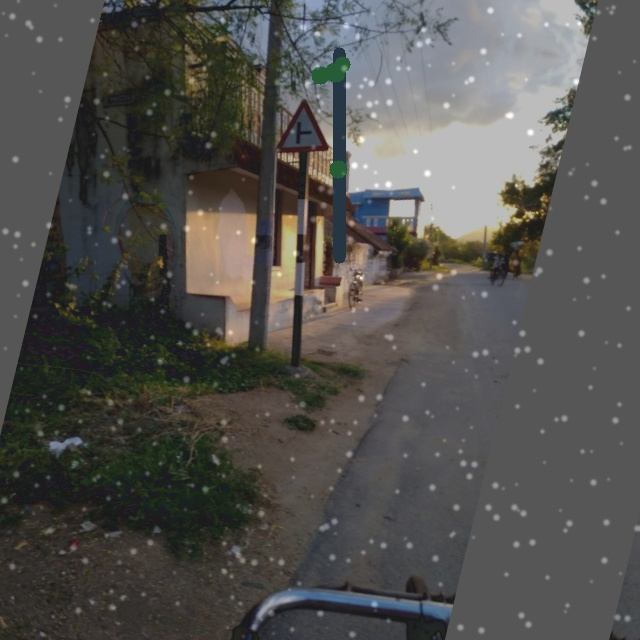Side_Road_Right: (268, 90, 344, 168)
